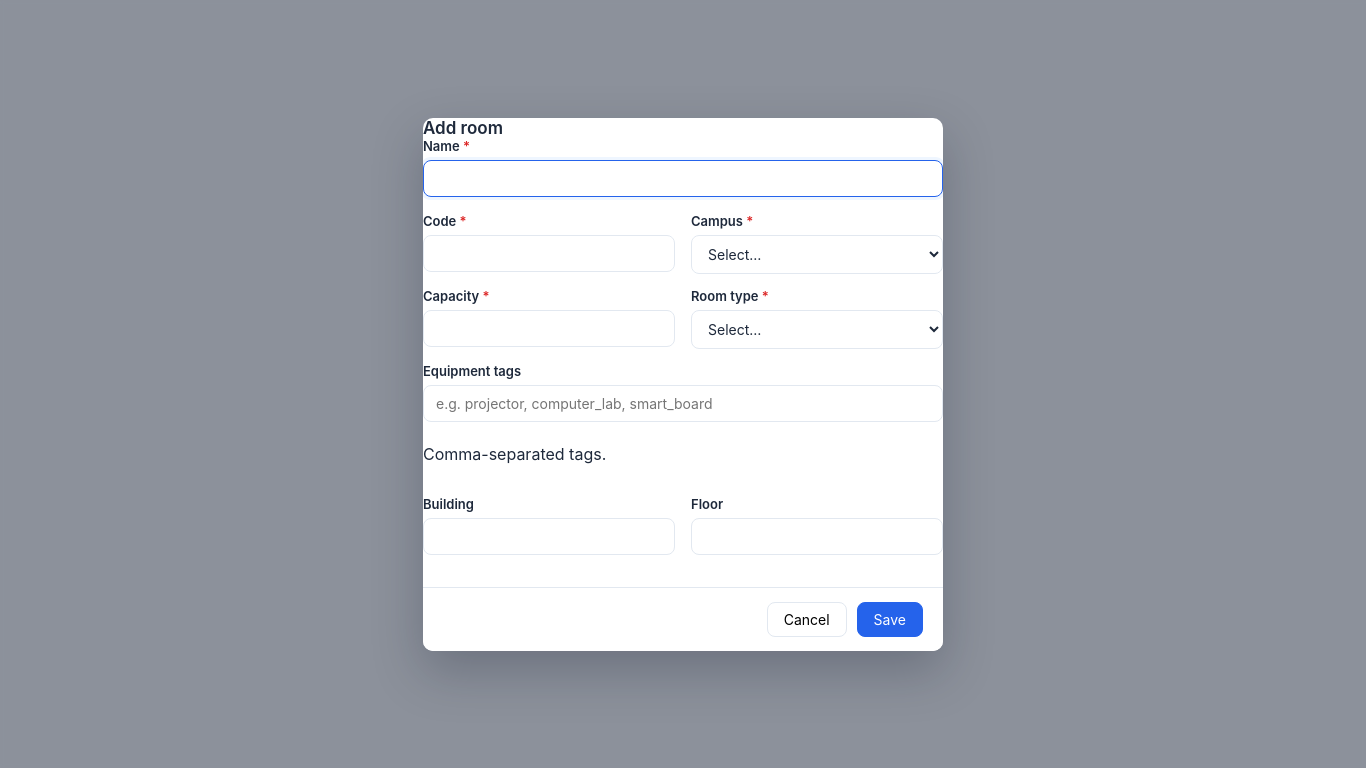
it: RoomFormModal › create mode › validates capacity minimum
Type "0" into the number field labelled "Capacity *" at (549, 328), box [423,310,675,346]
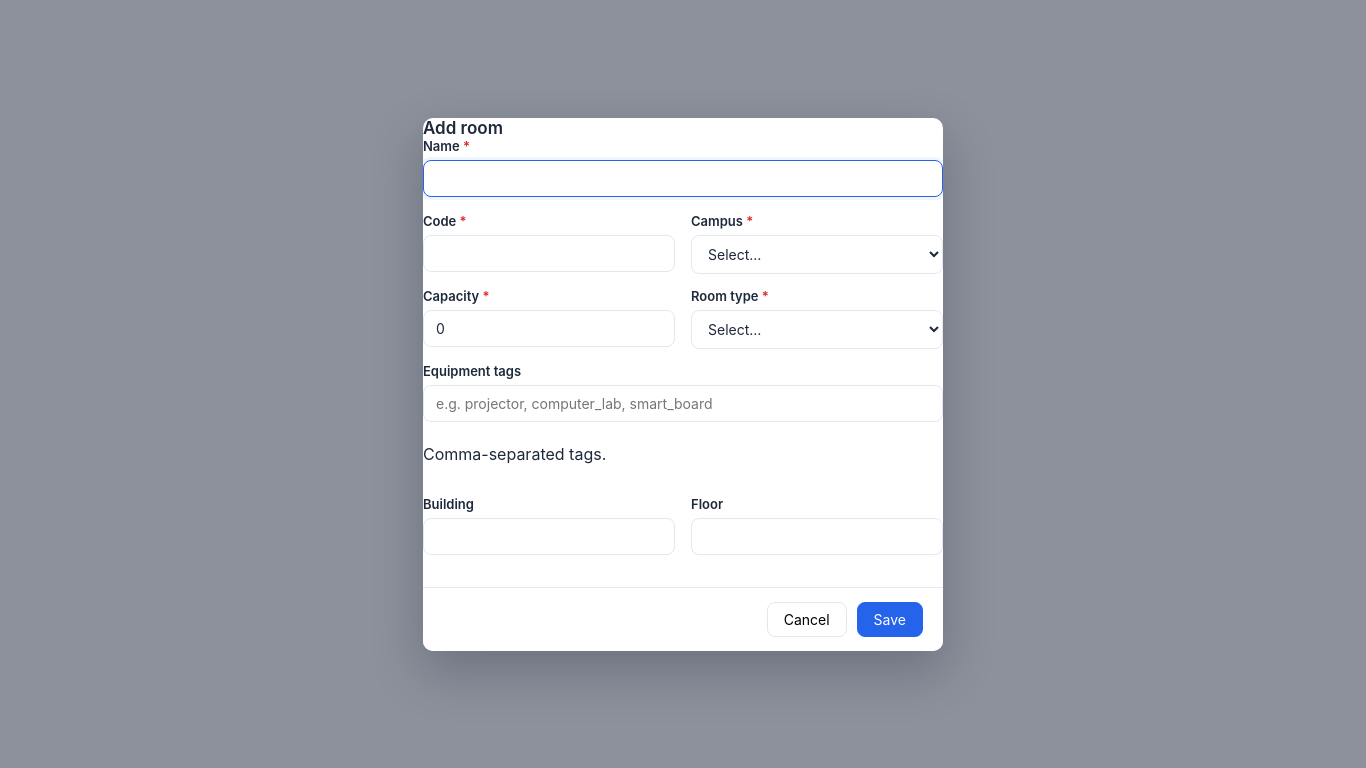
Click the button "Save" at (890, 619), box [857,602,923,636]
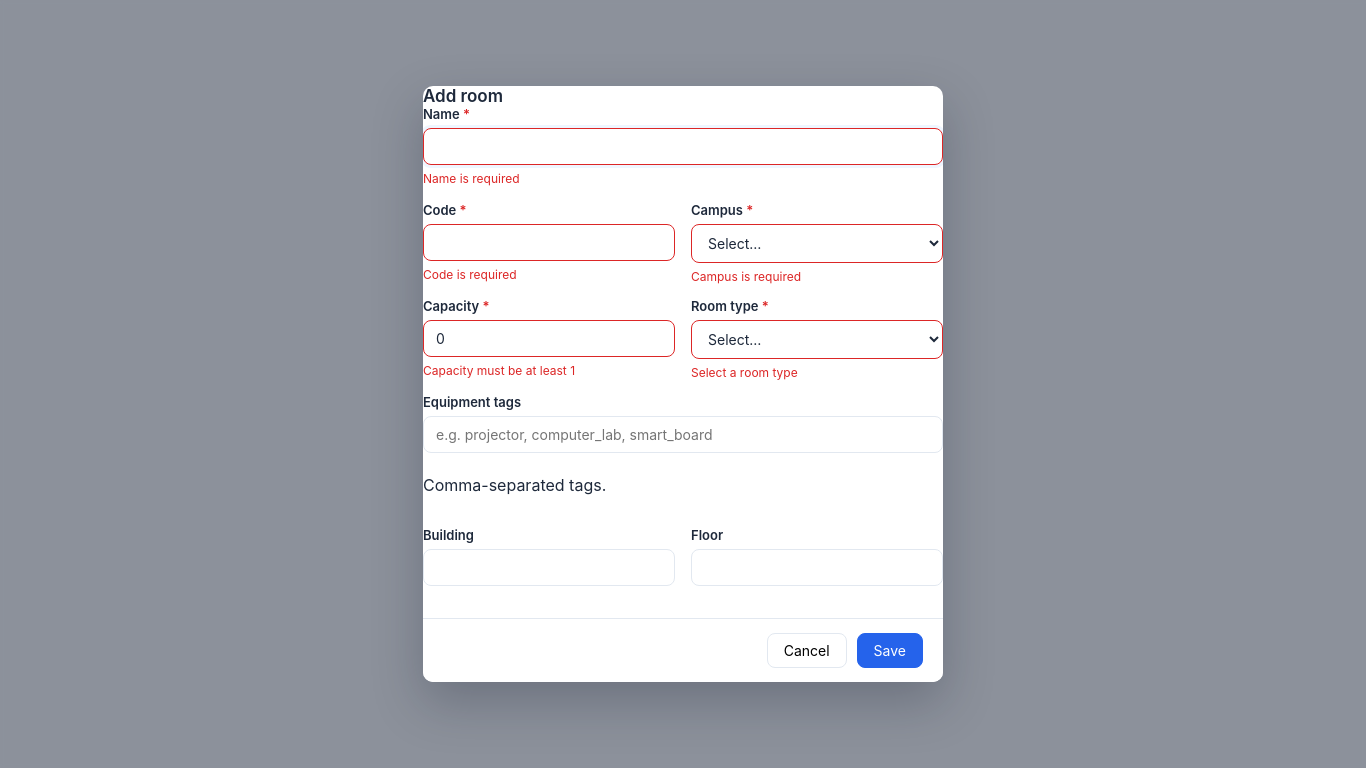
Expected: the text "Capacity must be at least 1" is shown, [423,363,575,378]
